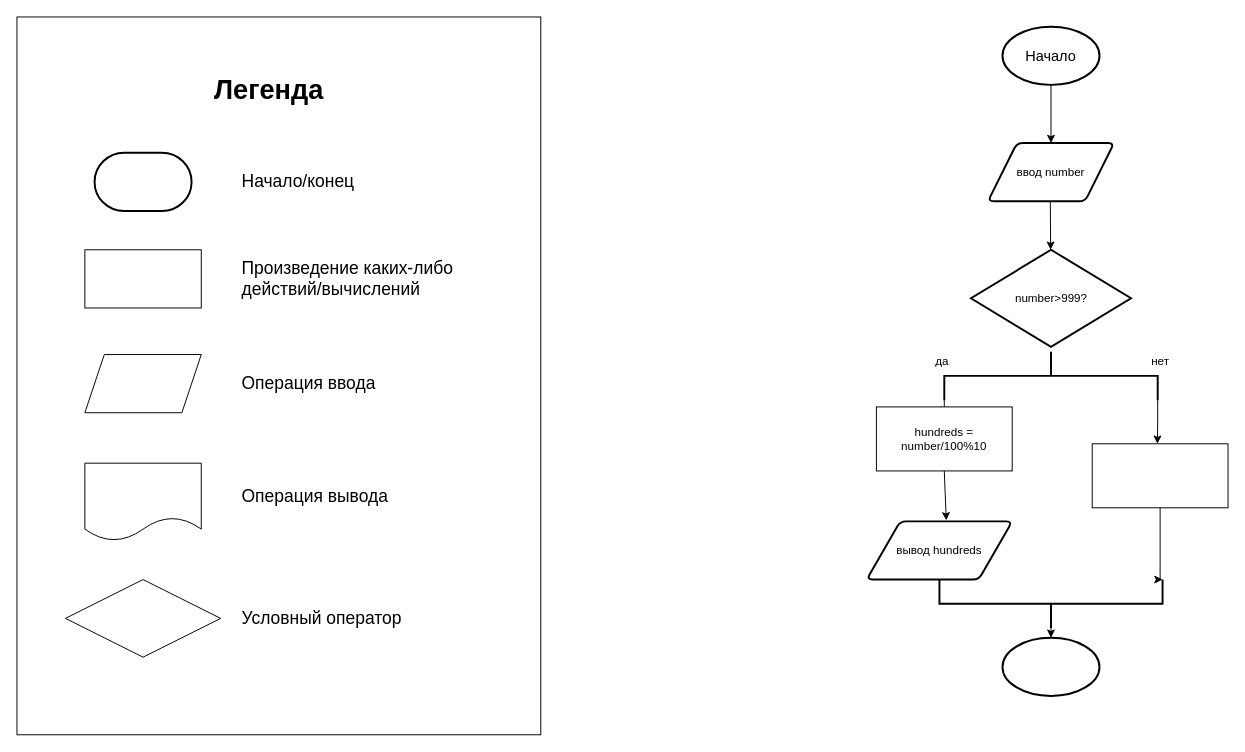
This 1245x752 diagram has some shape labels left out. The box of each missing label's shape, as (x1, y1, x2, y2) in pixels:
конец: (1001, 636, 1100, 696)
ошибка: (1091, 443, 1228, 508)
